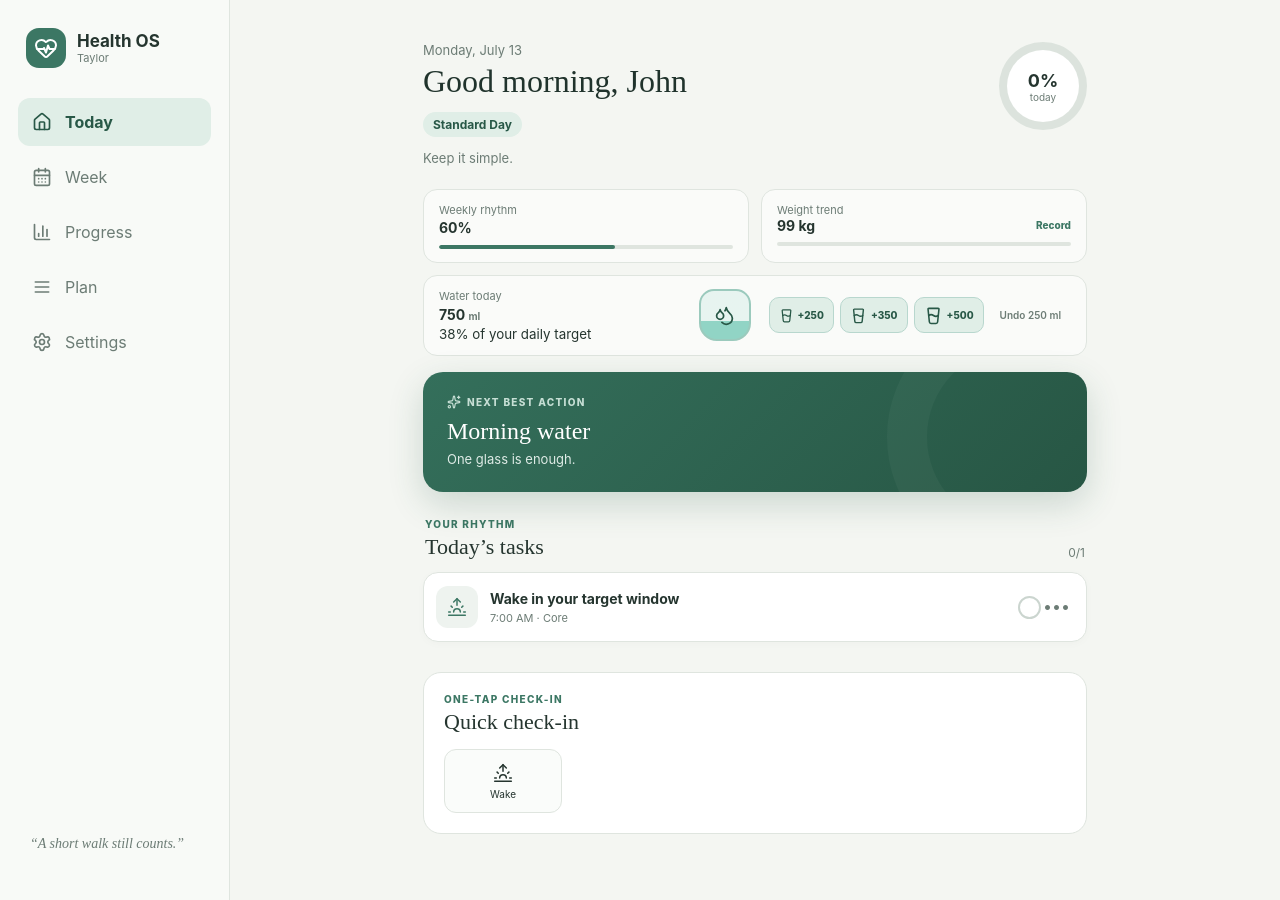
Test: hides lock and PIN controls for Home Assistant sessions
Expected: the heading "Good morning, John" is shown, [423, 63, 687, 100]
Click the button "Settings" at (114, 342), box [18, 318, 211, 366]
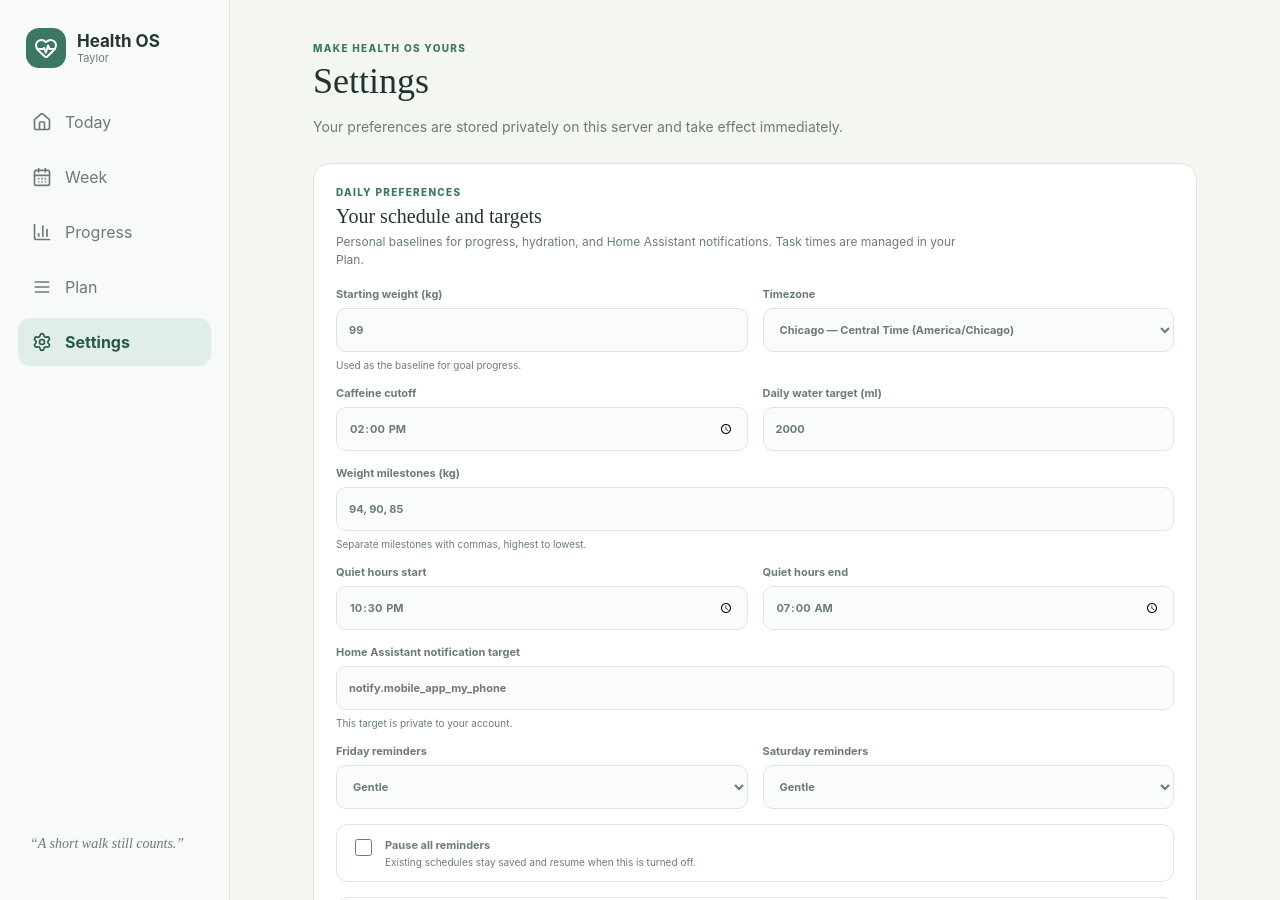
Now the heading "Settings" is shown, box [313, 61, 429, 101]
